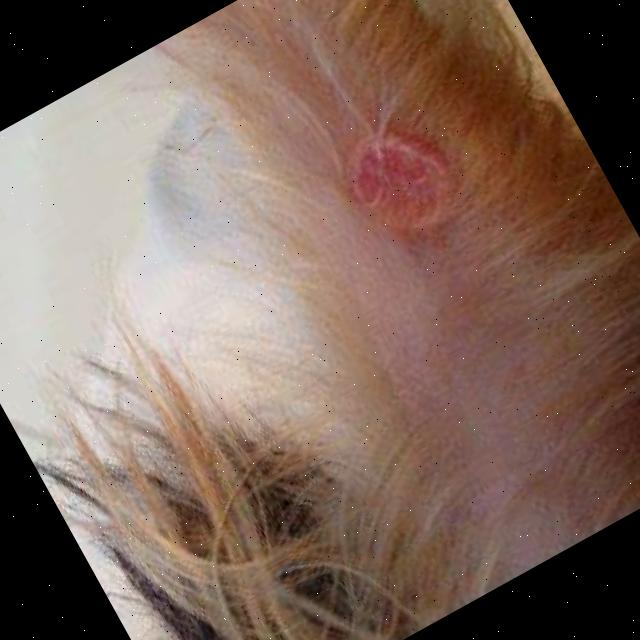cat-dermatitis: (330, 109, 480, 258)
